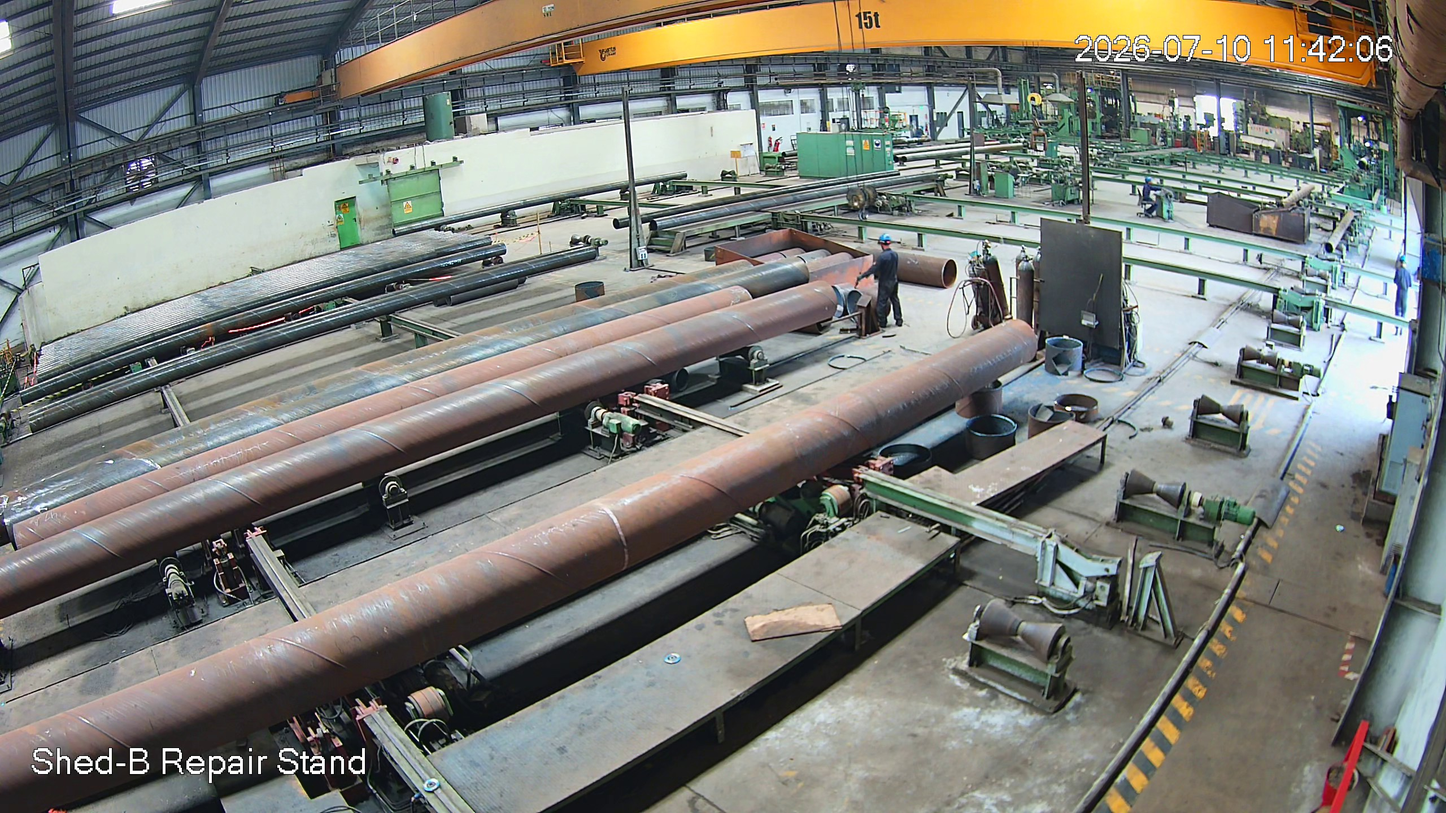Helmet: (874, 231, 903, 265), (1140, 171, 1156, 194), (1396, 251, 1409, 278)
Person: (860, 234, 912, 330), (1390, 253, 1413, 328), (1136, 174, 1164, 217)
